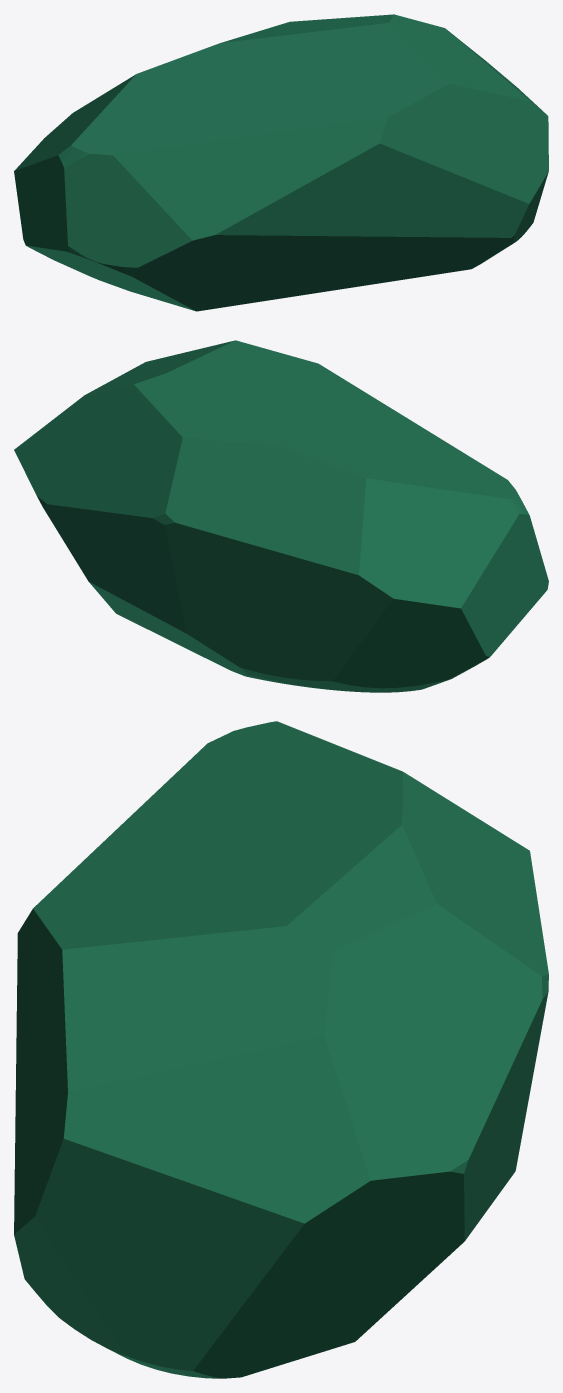
File: Moita1.fbx
3 renders of one model, top to bottom at view 1: azimuth 30°, elevation 25°; view 2: azimuth 150°, elevation 25°; view 3: azimuth 270°, elevation 25°, orthographic. The views are drawn at different scales.
Parts seen in each view (by area): view 1: Sphere.006; view 2: Sphere.006; view 3: Sphere.006.
Boxes of the visible parts, bbox=[...] form: Sphere.006: bbox=[14, 14, 548, 311]; Sphere.006: bbox=[14, 340, 548, 692]; Sphere.006: bbox=[14, 721, 548, 1378].
Bounding box in the file's own units: 519 × 232 × 284.
